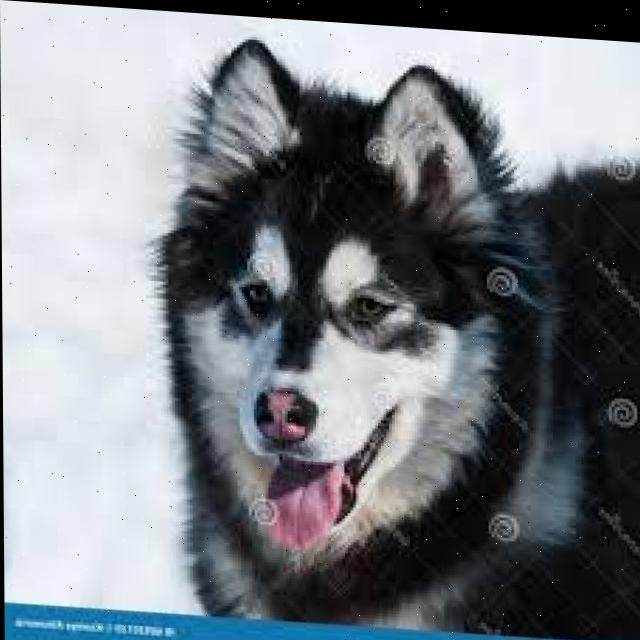ALASKAN_MALAMUTE: (118, 22, 640, 640)
